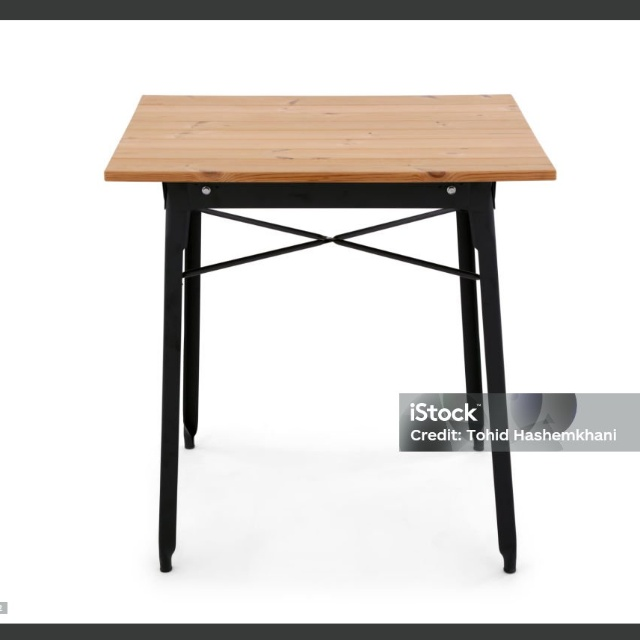obstacle: (102, 88, 556, 576)
